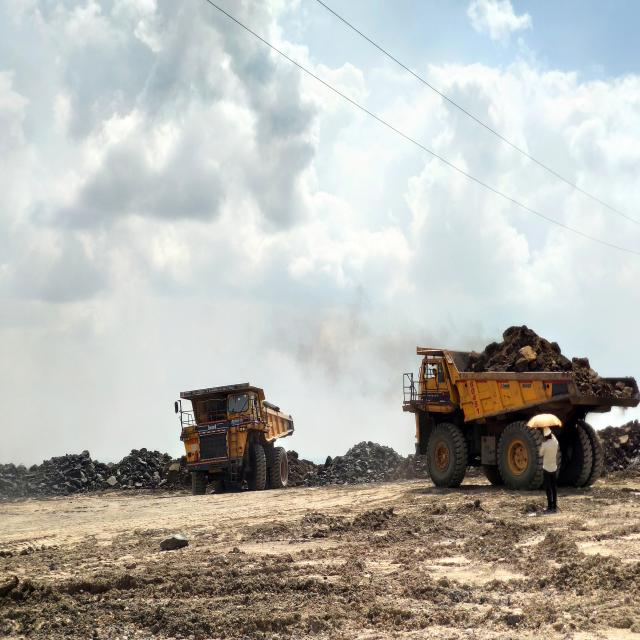dump_truck: (405, 330, 640, 510), (176, 385, 293, 492)
